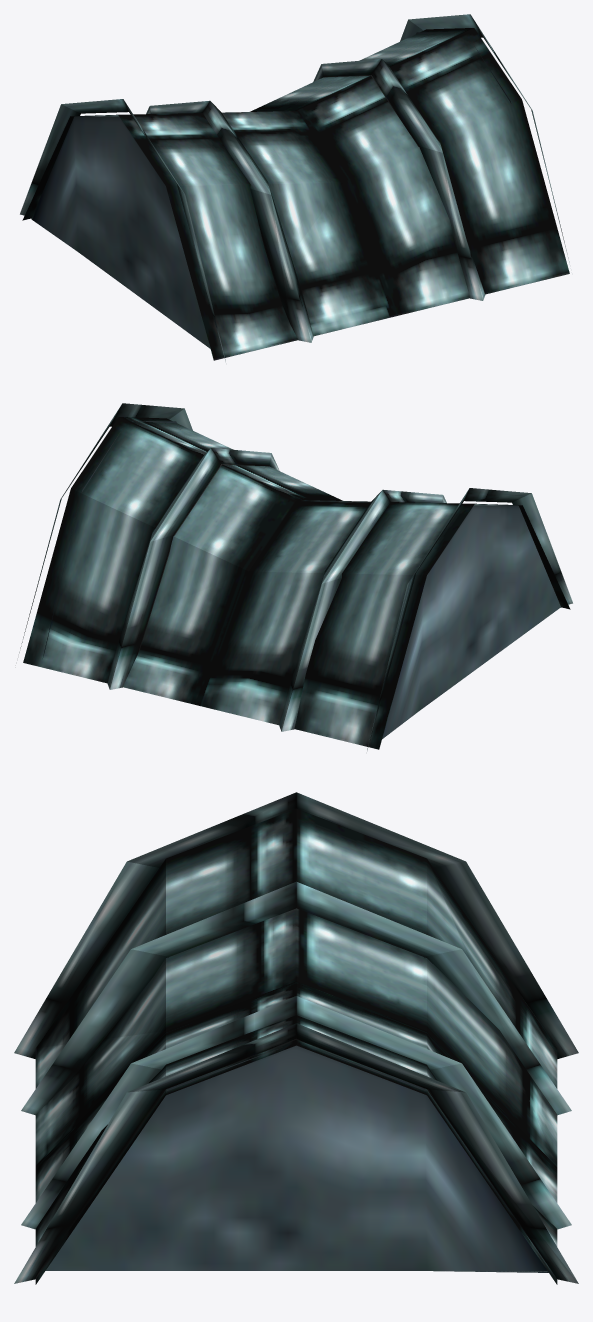
File: Dach_Tonne [Rohre]_503.glb
3 renders of one model, top to bottom at view 1: azimuth 30°, elevation 25°; view 2: azimuth 150°, elevation 25°; view 3: azimuth 270°, elevation 25°, orthographic. The views are drawn at different scales.
Parts seen in each view (by area): view 1: pPlaneShape98, pPlaneShape100, pPlaneShape104, pPlaneShape103, pPlaneShape102, pPlaneShape101; view 2: pPlaneShape98, pPlaneShape100, pPlaneShape103, pPlaneShape104, pPlaneShape102, pPlaneShape101; view 3: pPlaneShape98, pPlaneShape99, pPlaneShape104, pPlaneShape102, pPlaneShape101, pPlaneShape103.
Part boxes in pixels (left/top/right/bottom): pPlaneShape98: left=22, top=28, right=569, bottom=360; pPlaneShape100: left=31, top=116, right=210, bottom=348; pPlaneShape104: left=146, top=100, right=313, bottom=342; pPlaneShape103: left=313, top=59, right=485, bottom=300; pPlaneShape102: left=20, top=99, right=225, bottom=361; pPlaneShape101: left=400, top=14, right=569, bottom=262; pPlaneShape98: left=23, top=417, right=570, bottom=749; pPlaneShape100: left=382, top=505, right=561, bottom=739; pPlaneShape103: left=107, top=448, right=279, bottom=689; pPlaneShape104: left=279, top=489, right=446, bottom=731; pPlaneShape102: left=367, top=488, right=572, bottom=750; pPlaneShape101: left=19, top=403, right=192, bottom=652; pPlaneShape98: left=35, top=808, right=557, bottom=1284; pPlaneShape99: left=45, top=1045, right=548, bottom=1272; pPlaneShape104: left=21, top=881, right=571, bottom=1115; pPlaneShape102: left=14, top=792, right=578, bottom=1058; pPlaneShape101: left=14, top=1023, right=578, bottom=1283; pPlaneShape103: left=21, top=996, right=571, bottom=1229.
Size of the model in its own units: 0.5855 by 0.3033 by 0.5626.
7 materials, 7 textured.
